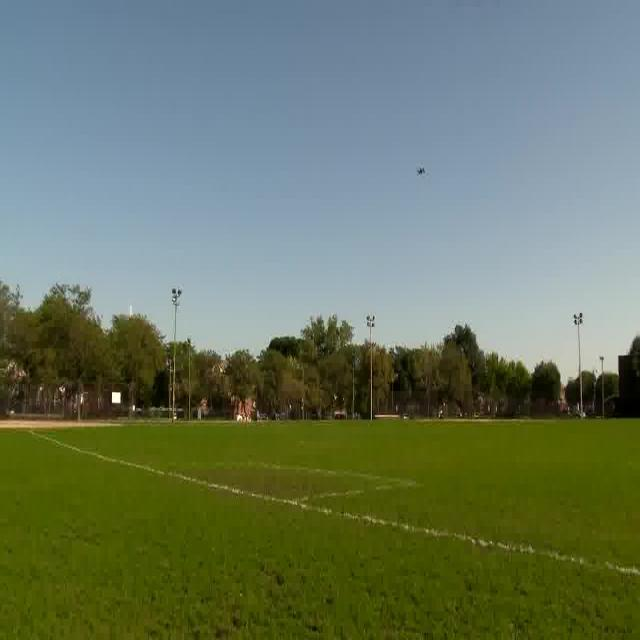drone: (413, 156, 431, 180)
